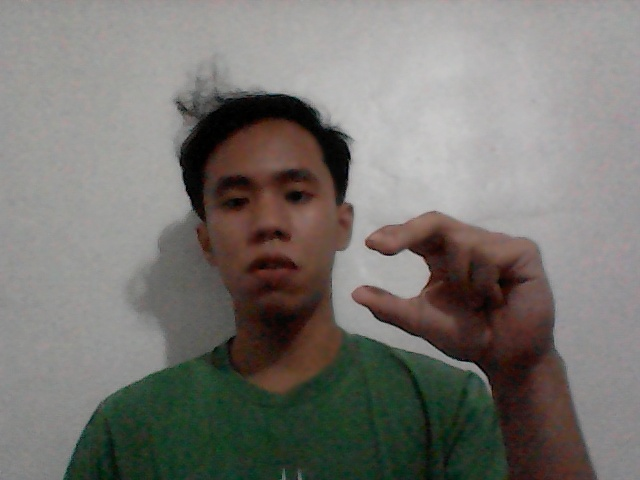No: (344, 190, 580, 382)
